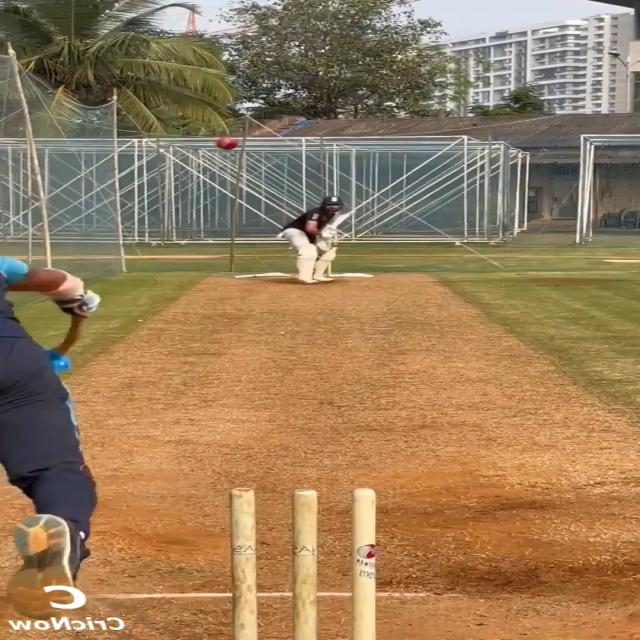ball: (216, 137, 238, 151)
stump: (225, 484, 378, 640)
